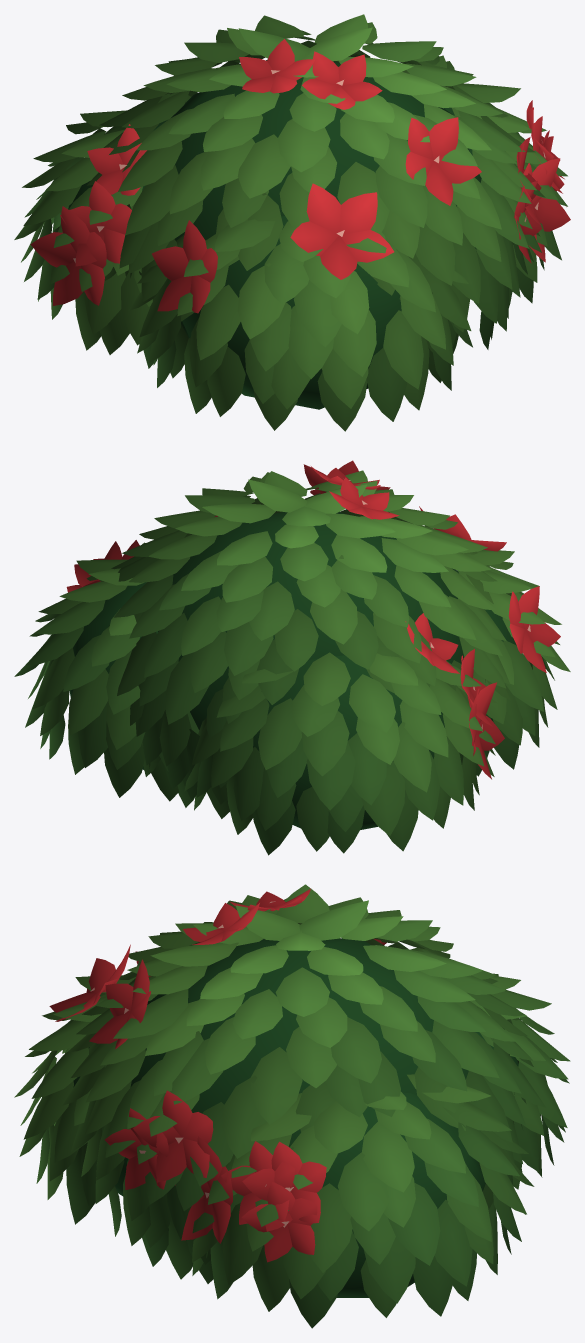
The model's file is bush_hibiscus.glb.
3 views of the same model, one above another, from view 1: azimuth 30°, elevation 25°; view 2: azimuth 150°, elevation 25°; view 3: azimuth 270°, elevation 25° (orthographic). The views are drawn at different scales.
Visible parts, largest first — view 1: bush_hibiscus; view 2: bush_hibiscus; view 3: bush_hibiscus.
Boxes of the visible parts, x1=… form: bush_hibiscus: x1=14, y1=14, x2=570, y2=431; bush_hibiscus: x1=14, y1=460, x2=570, y2=855; bush_hibiscus: x1=14, y1=884, x2=570, y2=1328.
Size of the model in its own units: 1.38 by 0.871 by 1.31.
